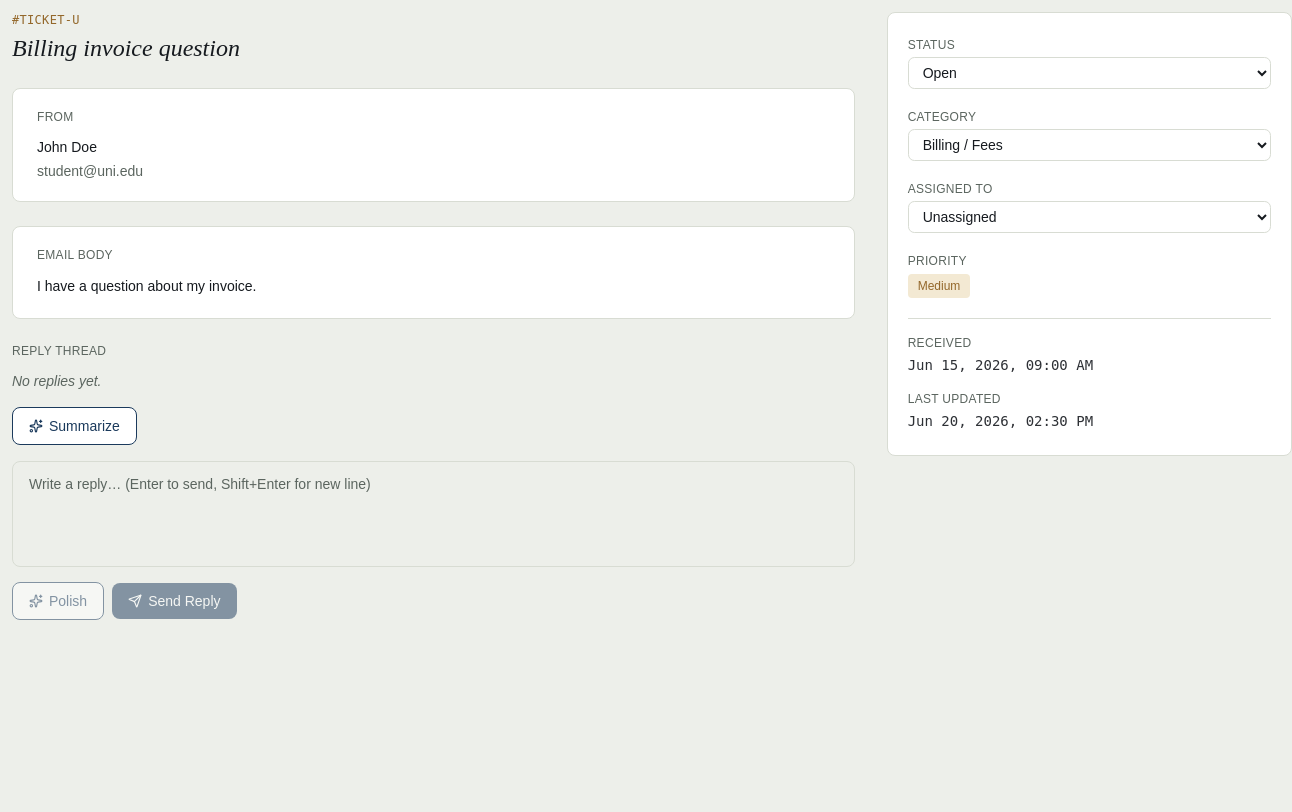
Test: TicketDetail › reply form › shows an inline error message when the POST fails
This screenshot has width=1292, height=812.
Expected: the heading "Billing invoice question" is shown, [12, 35, 240, 61]
Type "." into the text box with placeholder "Write a reply… (Enter to send, Shift+Enter for new line)".
click(433, 514); type(".")  # box [12, 461, 855, 567]
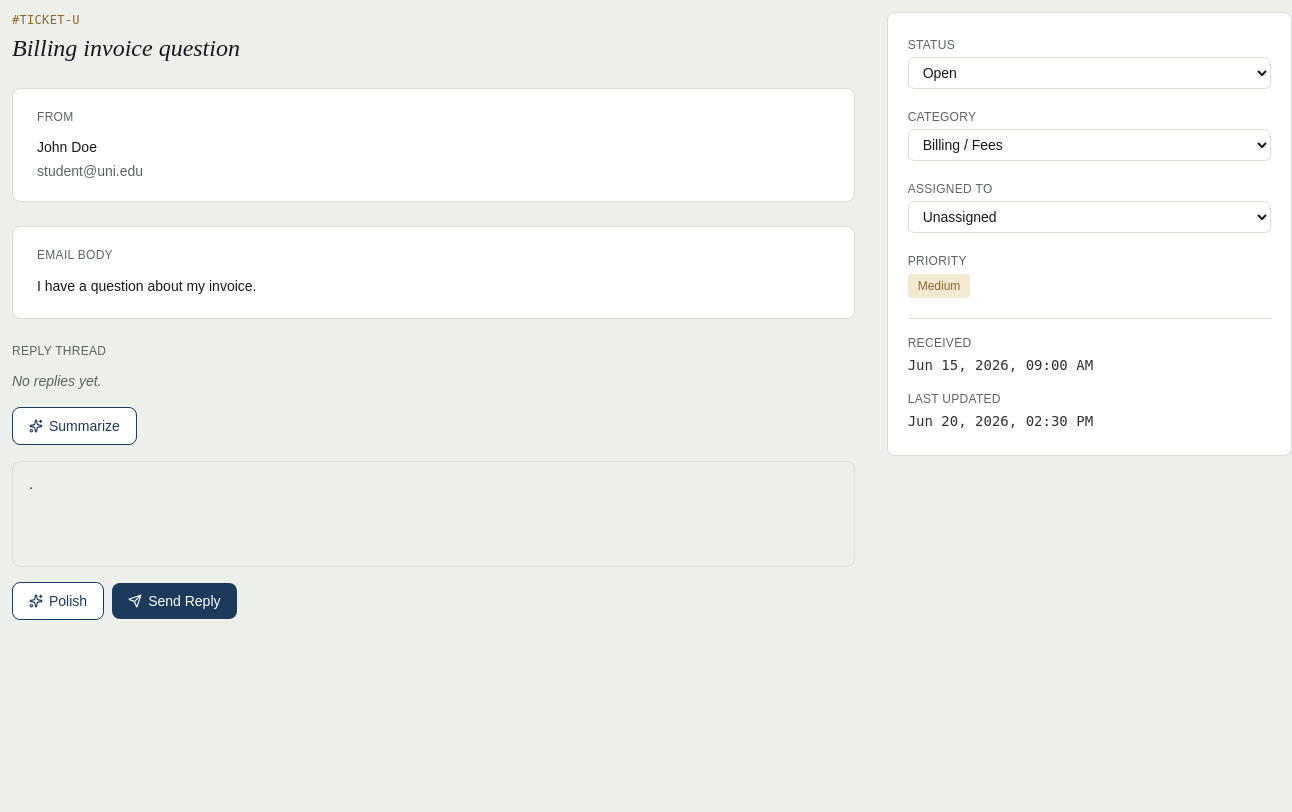
Click the button "Send Reply".
click(174, 601)  # box [112, 583, 236, 619]
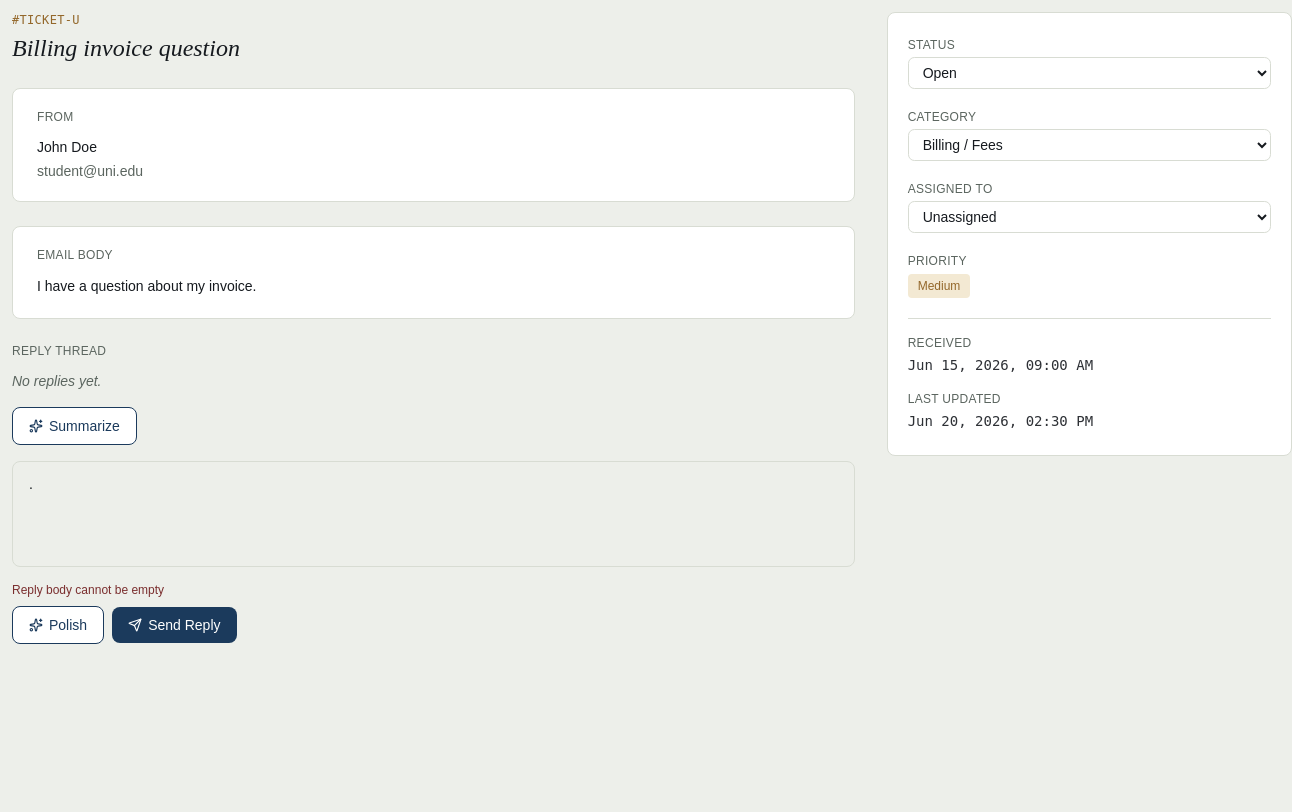
Now the text "Reply body cannot be empty" is shown, box [12, 583, 164, 597]
